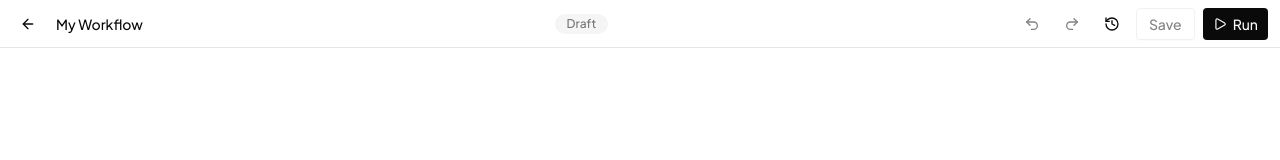
CanvasToolbar › pressing Enter commits the name via the store
Step 1. Click the button "My Workflow" → x=99, y=24, box [52,14,147,34]
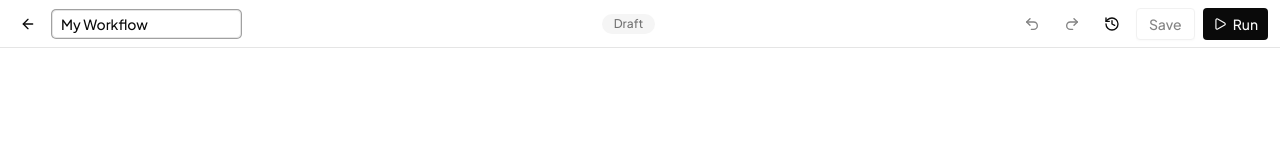
Step 2. Replace the text in the field with "New Name" → x=146, y=24, box [52,10,241,38]
Then press Enter
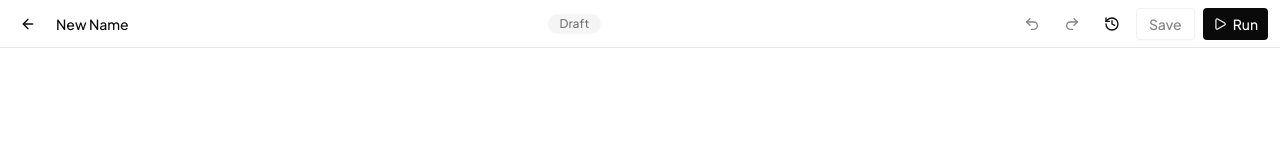
expect the field is gone: met
